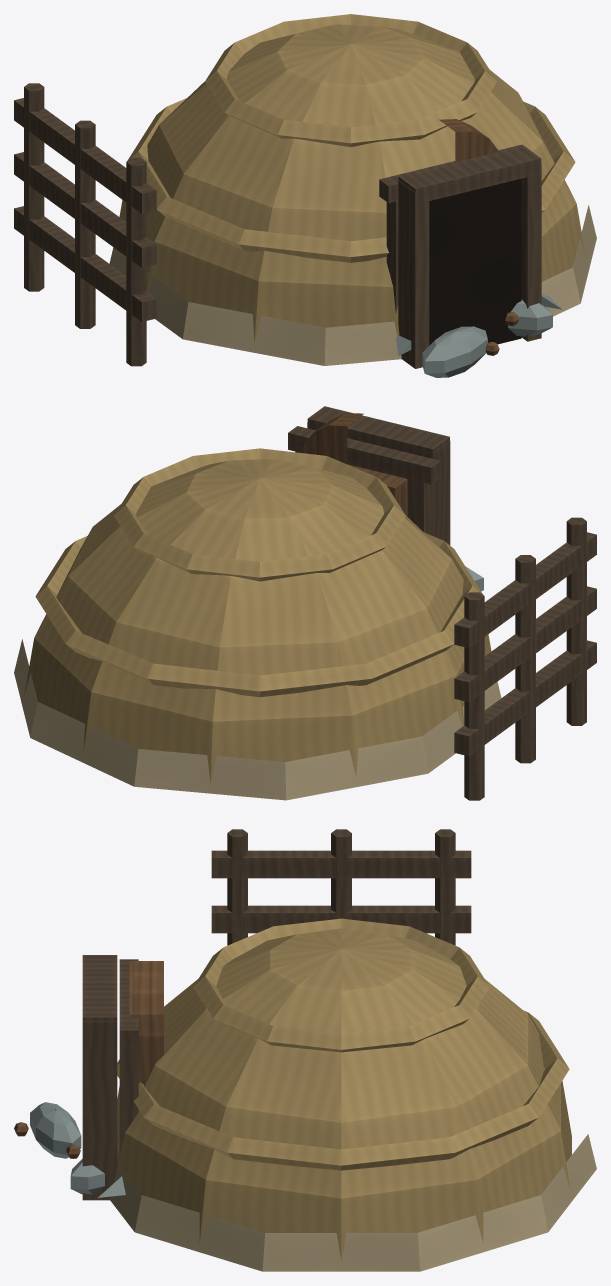
File: windbreak-dome.glb
3 renders of one model, top to bottom at view 1: azimuth 30°, elevation 25°; view 2: azimuth 150°, elevation 25°; view 3: azimuth 270°, elevation 25°, orthographic.
Visible parts, largest first — view 1: windbreak-dome; view 2: windbreak-dome; view 3: windbreak-dome.
Part boxes in pixels (x1=…): windbreak-dome: x1=14, y1=14, x2=596, y2=377; windbreak-dome: x1=14, y1=406, x2=596, y2=800; windbreak-dome: x1=14, y1=829, x2=596, y2=1271.
Size of the model in its own units: 0.651 by 0.28 by 0.6731.
Materials: 1 (1 with a texture image).
